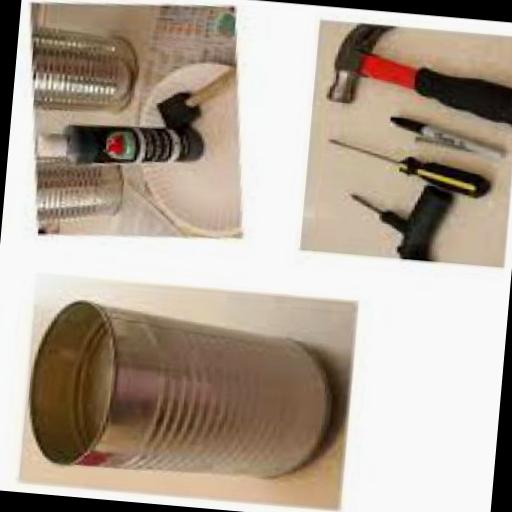metal: (20, 299, 338, 490), (22, 27, 138, 117), (29, 156, 120, 228), (324, 22, 394, 108), (324, 141, 399, 164), (346, 194, 378, 212)
